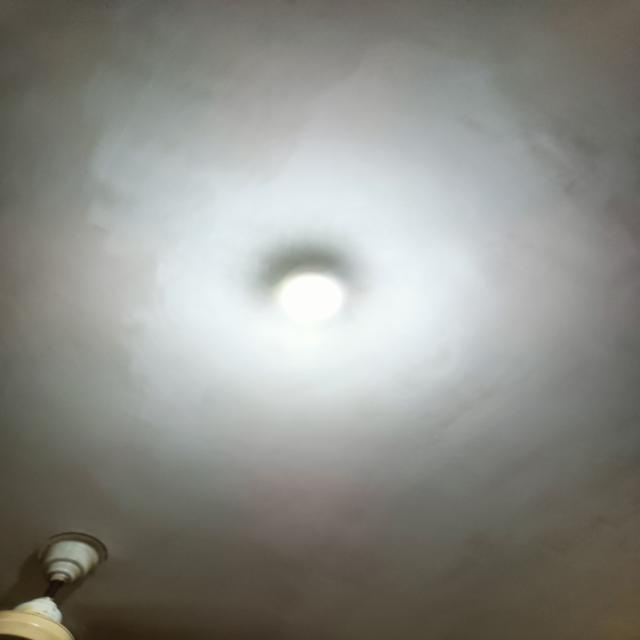bulb_on: (271, 257, 350, 334)
